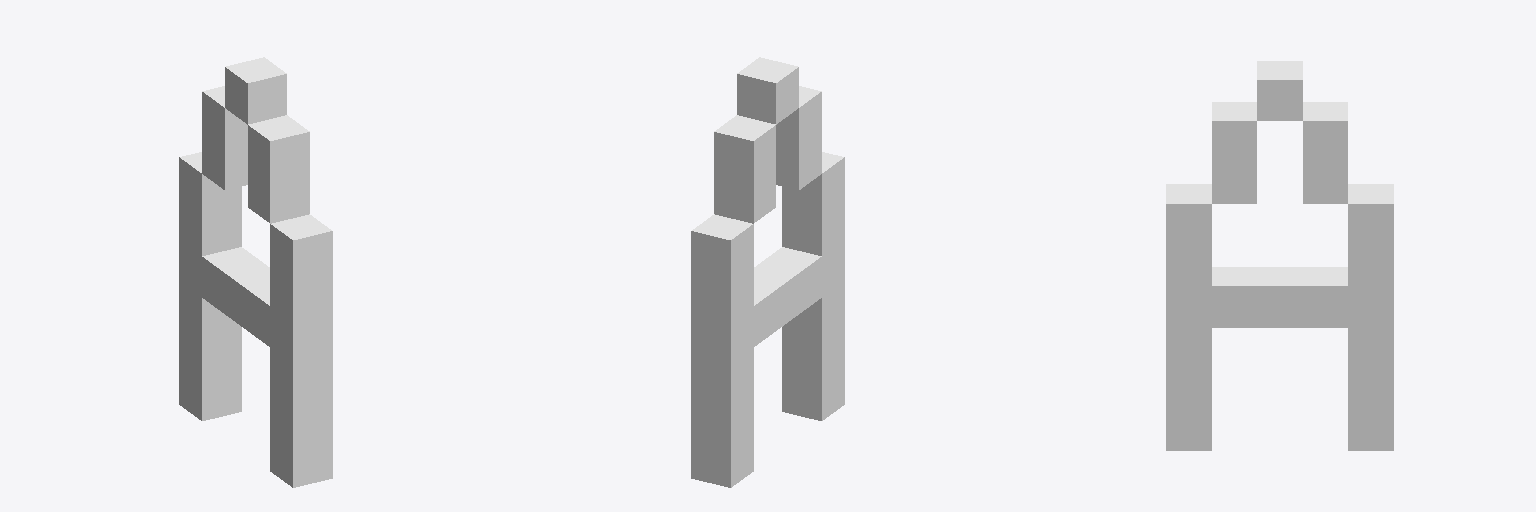
The model's file is let_A.obj.
3 renders of one model, left to right at view 1: azimuth 30°, elevation 25°; view 2: azimuth 150°, elevation 25°; view 3: azimuth 270°, elevation 25°, orthographic.
Visible parts, largest first — view 1: object 1; view 2: object 1; view 3: object 1.
Part boxes in pixels (left/top/right/bottom): object 1: left=179, top=57, right=332, bottom=487; object 1: left=691, top=57, right=844, bottom=487; object 1: left=1166, top=61, right=1393, bottom=450.
Bounding box in the file's own units: 0.1 × 0.9 × 0.5.